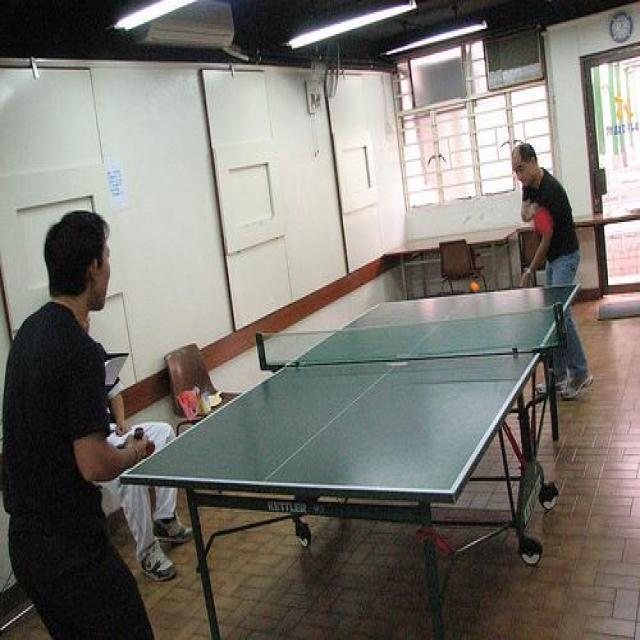ping-pong-ball: (470, 281, 480, 292)
